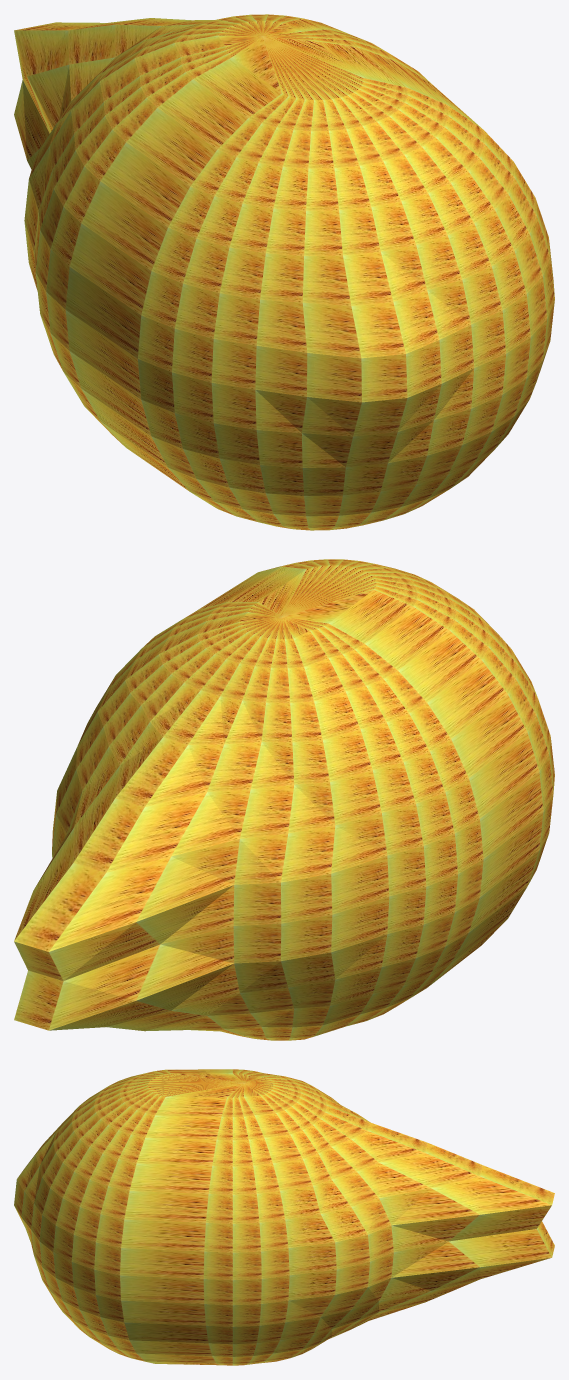
Rendered from inlandsedgeseed.dae.
3 renders of one model, top to bottom at view 1: azimuth 30°, elevation 25°; view 2: azimuth 150°, elevation 25°; view 3: azimuth 270°, elevation 25°, orthographic. The views are drawn at different scales.
Parts seen in each view (by area): view 1: Sphere; view 2: Sphere; view 3: Sphere.
Boxes of the visible parts, x1,y1,x2,y2 form: Sphere: [14, 14, 554, 530]; Sphere: [14, 559, 554, 1040]; Sphere: [14, 1069, 554, 1365].
Bounding box in the file's own units: 2 × 3.65 × 2.
1 material, 1 textured.
